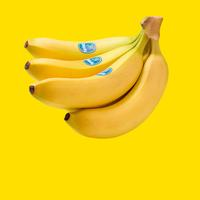banane: (19, 14, 175, 140)
